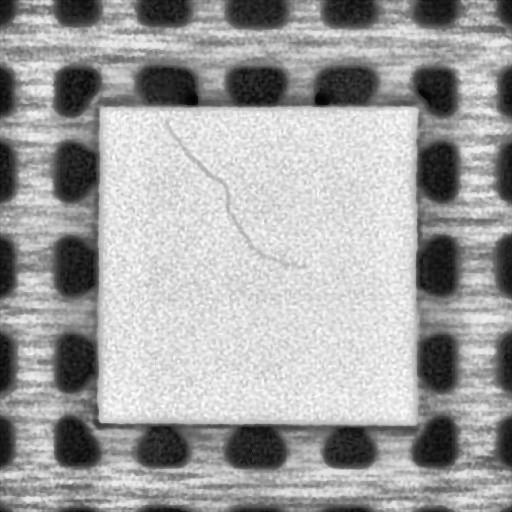DIE_CRACK: (162, 118, 284, 264)
